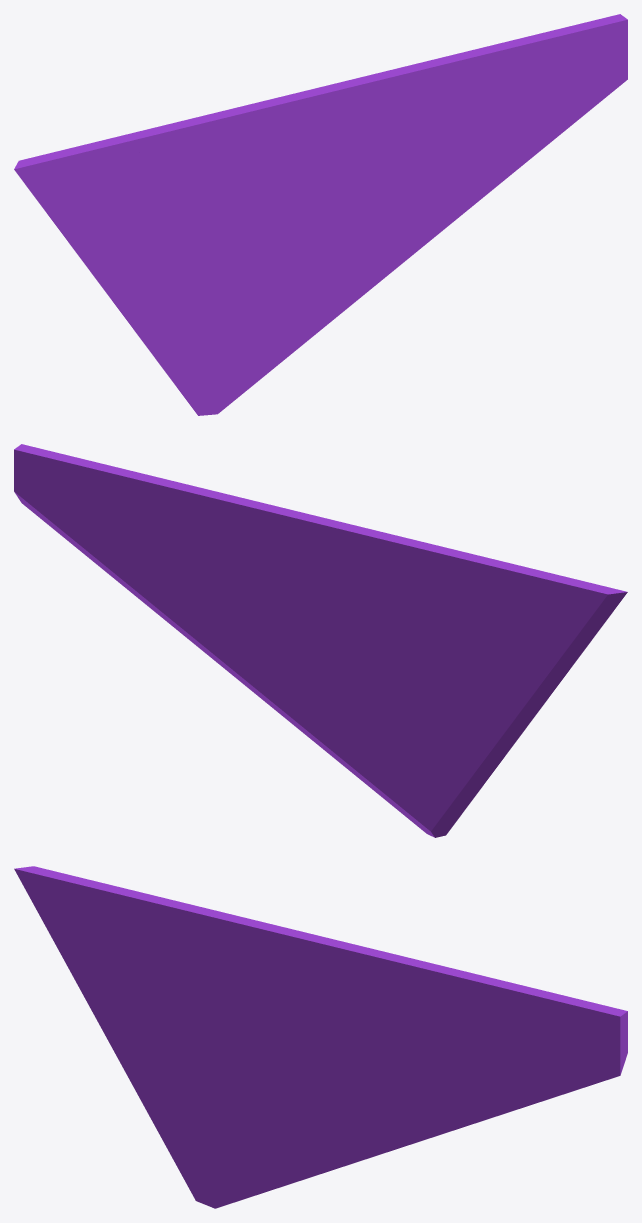
The model's file is Glass_11_2_chunks.fbx.
3 views of the same model, one above another, from view 1: azimuth 30°, elevation 25°; view 2: azimuth 150°, elevation 25°; view 3: azimuth 330°, elevation 25° (orthographic).
Parts seen in each view (by area): view 1: Glass_11_2_7, Glass_11_2_6, Glass_11_2_12, Glass_11_2_0, Glass_11_2_10, Glass_11_2_8, Glass_11_2_1, Glass_11_2_3, Glass_11_2_9, Glass_11_2_2, Glass_11_2_5, Glass_11_2_4 (+1 smaller); view 2: Glass_11_2_7, Glass_11_2_12, Glass_11_2_1, Glass_11_2_6, Glass_11_2_4, Glass_11_2_8, Glass_11_2_5, Glass_11_2_9, Glass_11_2_10, Glass_11_2_3, Glass_11_2_11, Glass_11_2_2 (+1 smaller); view 3: Glass_11_2_7, Glass_11_2_6, Glass_11_2_12, Glass_11_2_0, Glass_11_2_10, Glass_11_2_8, Glass_11_2_1, Glass_11_2_3, Glass_11_2_9, Glass_11_2_2, Glass_11_2_5, Glass_11_2_4 (+1 smaller).
Boxes of the visible parts, x1,y1,x2,y2 form: Glass_11_2_7: (14, 143, 239, 297); Glass_11_2_6: (155, 265, 341, 415); Glass_11_2_12: (473, 14, 627, 176); Glass_11_2_0: (312, 44, 525, 221); Glass_11_2_10: (339, 128, 477, 311); Glass_11_2_8: (224, 183, 341, 306); Glass_11_2_1: (92, 100, 291, 175); Glass_11_2_3: (259, 65, 421, 148); Glass_11_2_9: (342, 150, 508, 312); Glass_11_2_2: (218, 142, 320, 204); Glass_11_2_5: (110, 280, 203, 357); Glass_11_2_4: (317, 53, 459, 189); Glass_11_2_7: (406, 567, 627, 718); Glass_11_2_12: (14, 444, 162, 598); Glass_11_2_1: (322, 533, 535, 620); Glass_11_2_6: (303, 703, 488, 837); Glass_11_2_4: (170, 487, 329, 648); Glass_11_2_8: (299, 617, 418, 736); Glass_11_2_5: (409, 684, 533, 787); Glass_11_2_9: (133, 564, 303, 733); Glass_11_2_10: (186, 573, 301, 709); Glass_11_2_3: (217, 495, 385, 570); Glass_11_2_11: (123, 475, 230, 574); Glass_11_2_2: (326, 591, 393, 640); Glass_11_2_7: (14, 866, 236, 1069); Glass_11_2_6: (153, 1065, 337, 1208); Glass_11_2_12: (467, 984, 627, 1114); Glass_11_2_0: (308, 958, 518, 1077); Glass_11_2_10: (335, 1032, 471, 1167); Glass_11_2_8: (222, 991, 337, 1162); Glass_11_2_1: (106, 884, 287, 975); Glass_11_2_3: (256, 926, 424, 994); Glass_11_2_9: (338, 1073, 502, 1168); Glass_11_2_2: (215, 973, 316, 1047); Glass_11_2_5: (109, 1042, 201, 1122); Glass_11_2_4: (313, 961, 469, 1036).
Bounding box in the file's own units: 1255 × 575 × 27.2.
